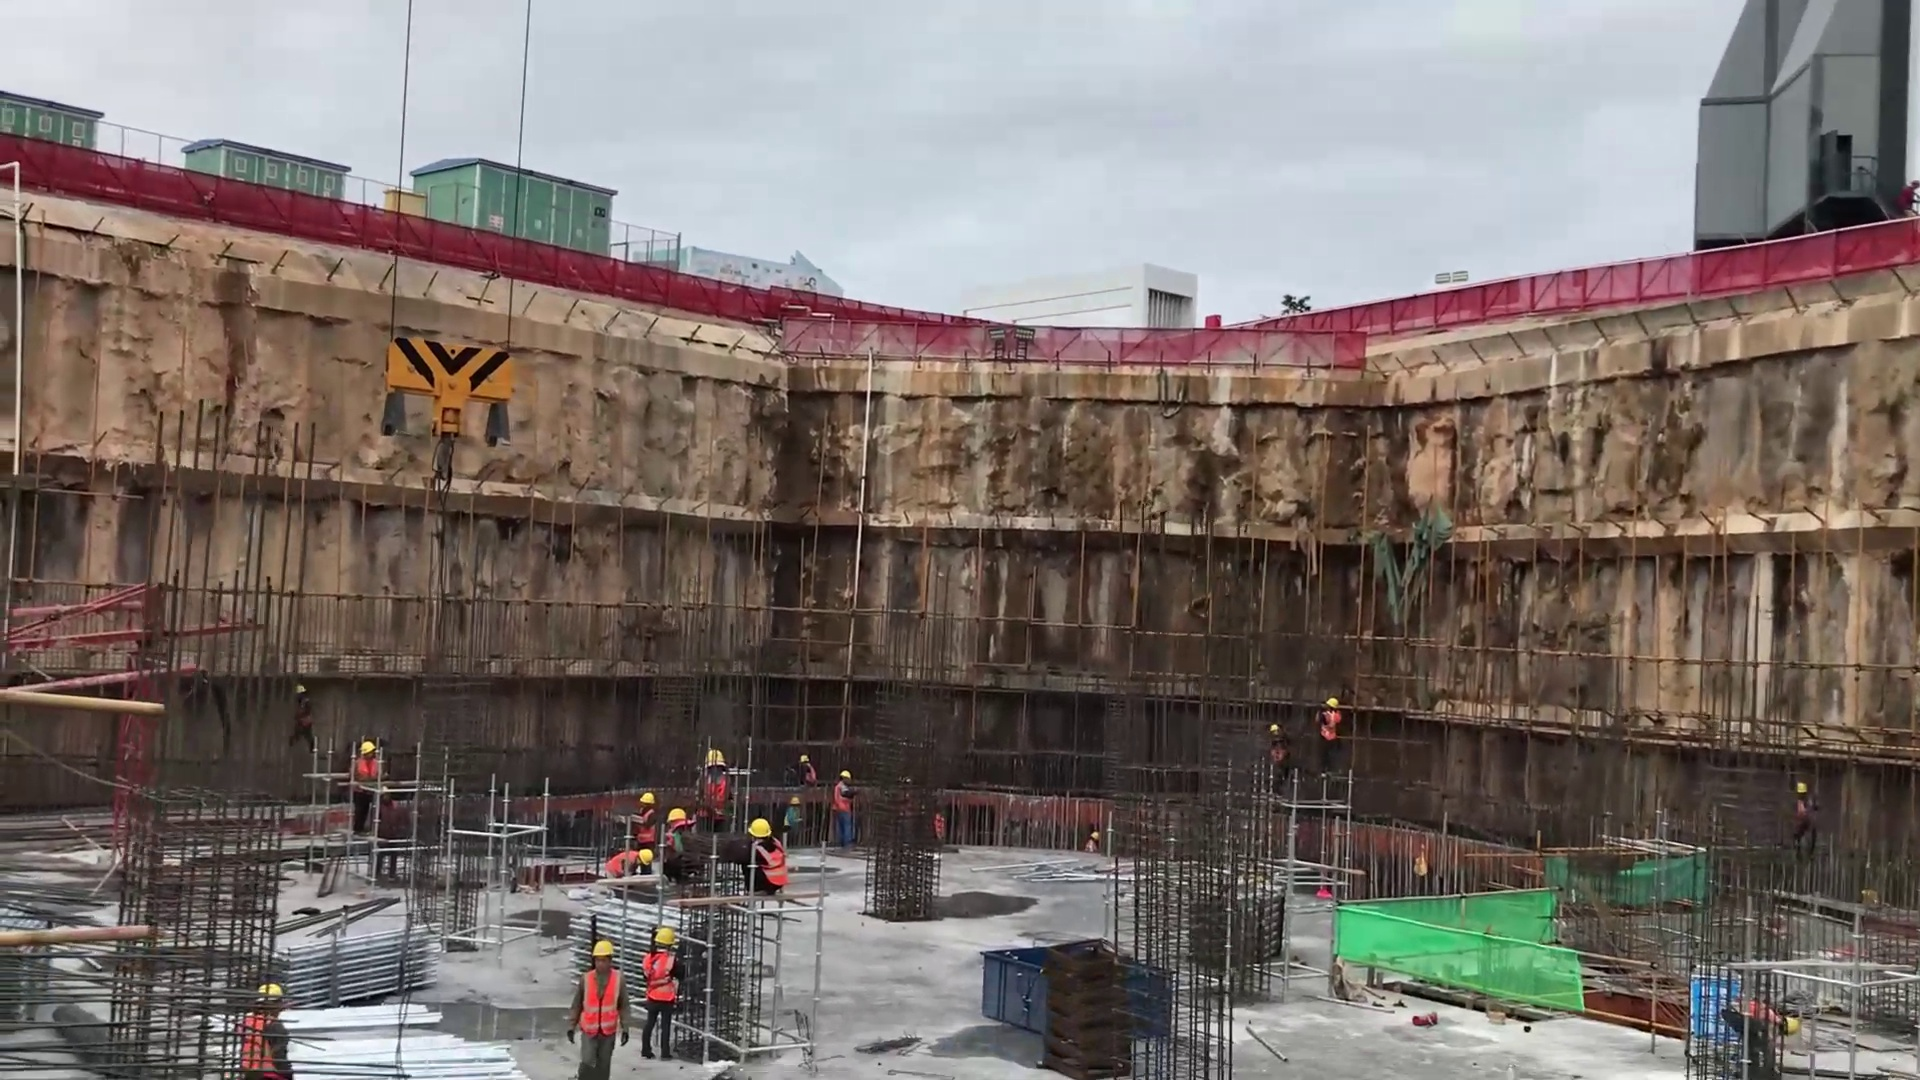helmet: (255, 972, 301, 1012), (589, 924, 625, 969), (344, 734, 377, 766), (648, 923, 688, 946), (744, 812, 778, 837)
person: (570, 938, 640, 1077), (232, 977, 297, 1080), (642, 922, 675, 1047), (656, 806, 702, 885), (700, 749, 746, 823), (746, 812, 785, 888), (627, 792, 678, 846), (831, 760, 862, 845), (350, 738, 379, 819), (597, 843, 659, 879), (1324, 691, 1340, 766)
vest: (236, 1011, 292, 1074), (748, 826, 798, 888), (638, 939, 679, 1007), (583, 964, 613, 1038), (602, 849, 642, 879), (352, 757, 385, 789), (828, 781, 859, 815)
